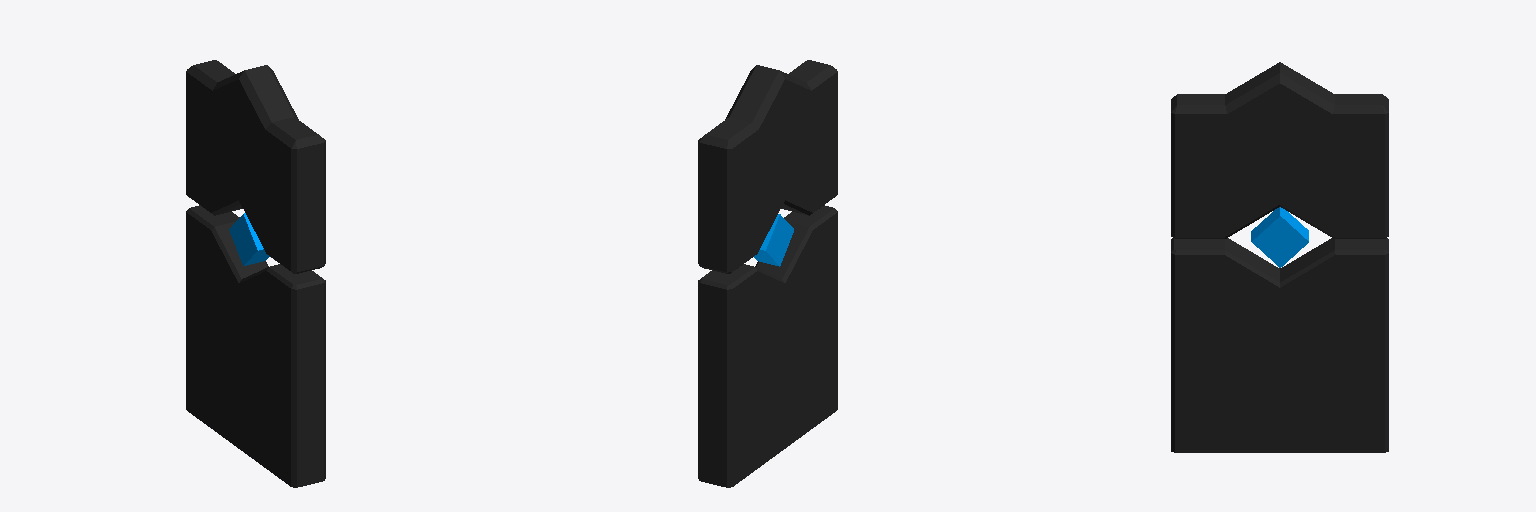
The model's file is DiamonWall.obj.
3 views of the same model, side by side, from view 1: azimuth 30°, elevation 25°; view 2: azimuth 150°, elevation 25°; view 3: azimuth 270°, elevation 25° (orthographic).
Visible parts, largest first — view 1: DiamondWall_Low Wall, Glow DiamondWall_Low; view 2: DiamondWall_Low Wall, Glow DiamondWall_Low; view 3: DiamondWall_Low Wall, Glow DiamondWall_Low.
Part boxes in pixels (bbox=[...]): DiamondWall_Low Wall: bbox=[186, 60, 325, 487]; Glow DiamondWall_Low: bbox=[229, 213, 269, 265]; DiamondWall_Low Wall: bbox=[698, 60, 837, 487]; Glow DiamondWall_Low: bbox=[754, 214, 793, 266]; DiamondWall_Low Wall: bbox=[1171, 62, 1388, 452]; Glow DiamondWall_Low: bbox=[1251, 207, 1308, 267].
Size of the model in its own units: 100 by 1046 by 550.